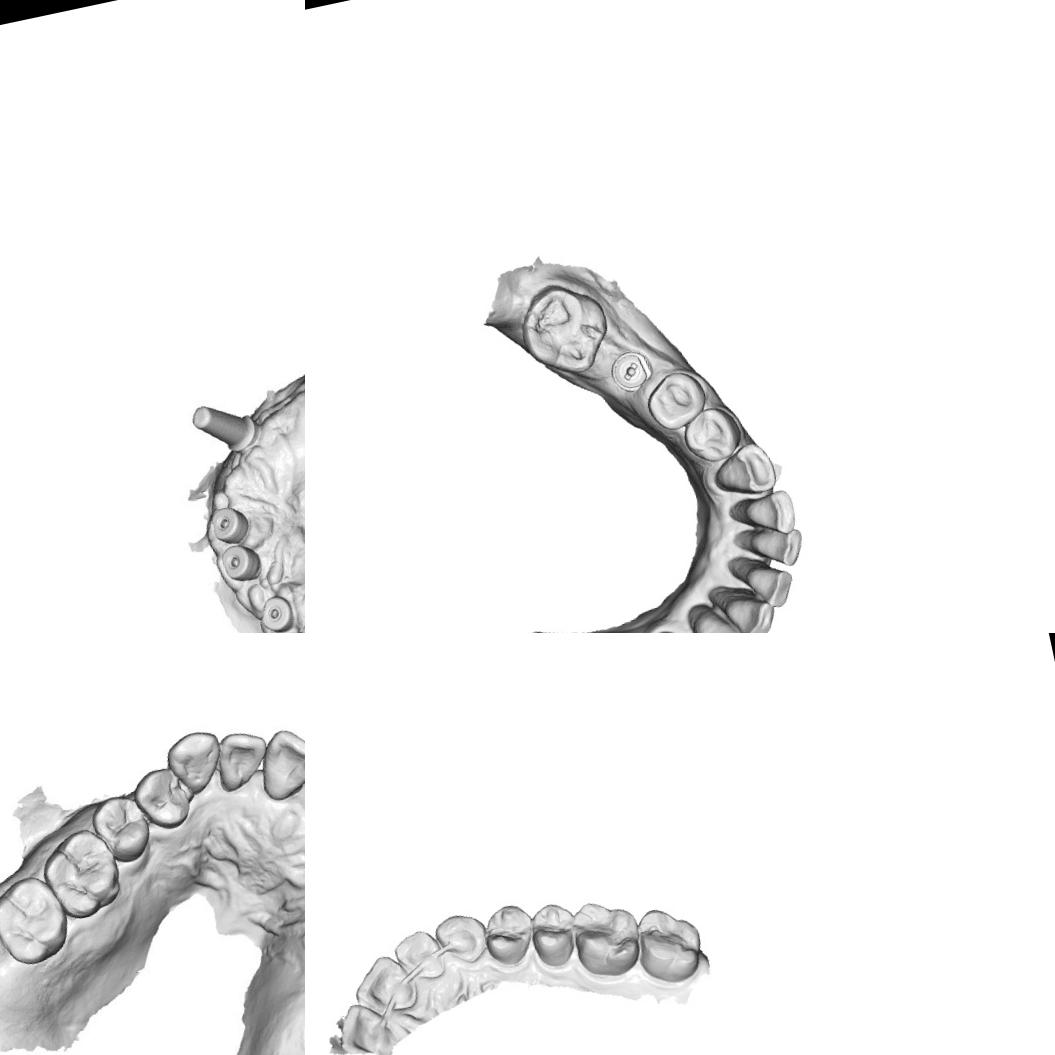abutment: (184, 395, 262, 463)
canine: (161, 724, 225, 802), (710, 436, 780, 503), (431, 907, 494, 970), (691, 602, 758, 633)
implant: (214, 542, 268, 589), (251, 589, 303, 633), (205, 504, 248, 550)
implant_minus: (610, 347, 654, 398)
incisor: (348, 949, 422, 1019), (734, 486, 800, 542), (742, 522, 809, 576), (390, 925, 448, 987), (333, 997, 395, 1055), (739, 556, 797, 615), (259, 726, 305, 794), (218, 732, 268, 789), (723, 591, 781, 633)
molar: (510, 275, 618, 385), (35, 821, 133, 925), (0, 869, 77, 973), (567, 892, 647, 984), (628, 900, 709, 990)
premolar: (92, 795, 158, 872), (133, 762, 198, 836), (524, 898, 584, 971), (479, 900, 540, 970), (644, 367, 709, 432), (680, 404, 744, 468)
